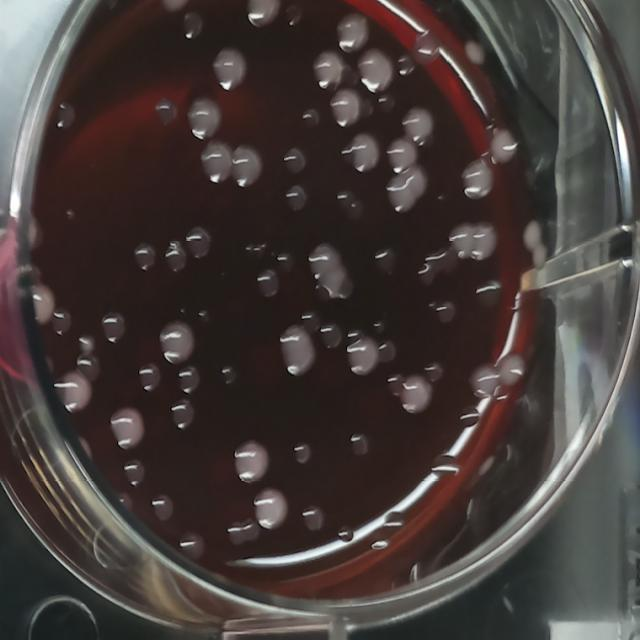Alteromonas: (175, 526, 207, 566), (183, 223, 214, 264), (371, 242, 400, 280), (254, 265, 282, 302), (162, 238, 190, 274), (281, 143, 309, 179), (175, 361, 202, 398), (99, 309, 129, 342), (169, 397, 197, 432), (131, 241, 158, 277), (121, 453, 148, 489), (180, 8, 206, 44), (136, 360, 162, 395), (150, 489, 176, 524), (299, 502, 326, 535), (317, 321, 345, 352), (282, 182, 308, 215), (346, 429, 371, 462), (216, 360, 242, 391), (290, 439, 313, 468), (376, 337, 399, 366), (299, 105, 321, 134), (274, 248, 296, 276), (301, 307, 320, 331)
Pseudoalteromonas: (307, 239, 349, 301), (278, 322, 319, 380), (385, 164, 430, 216), (229, 436, 271, 489), (354, 44, 394, 97), (250, 485, 291, 536), (54, 366, 94, 416), (185, 94, 225, 144), (157, 319, 198, 367), (108, 406, 148, 455), (333, 7, 371, 57), (458, 156, 497, 204), (211, 45, 249, 94), (229, 142, 265, 193), (308, 46, 346, 94), (200, 137, 235, 188), (400, 103, 438, 147), (398, 373, 435, 418), (327, 85, 363, 131), (348, 130, 382, 176), (486, 124, 520, 170), (382, 133, 418, 176), (27, 279, 57, 330), (493, 348, 529, 390), (345, 334, 379, 377), (468, 362, 502, 403), (468, 220, 499, 264), (448, 218, 476, 262), (243, 0, 284, 29)
